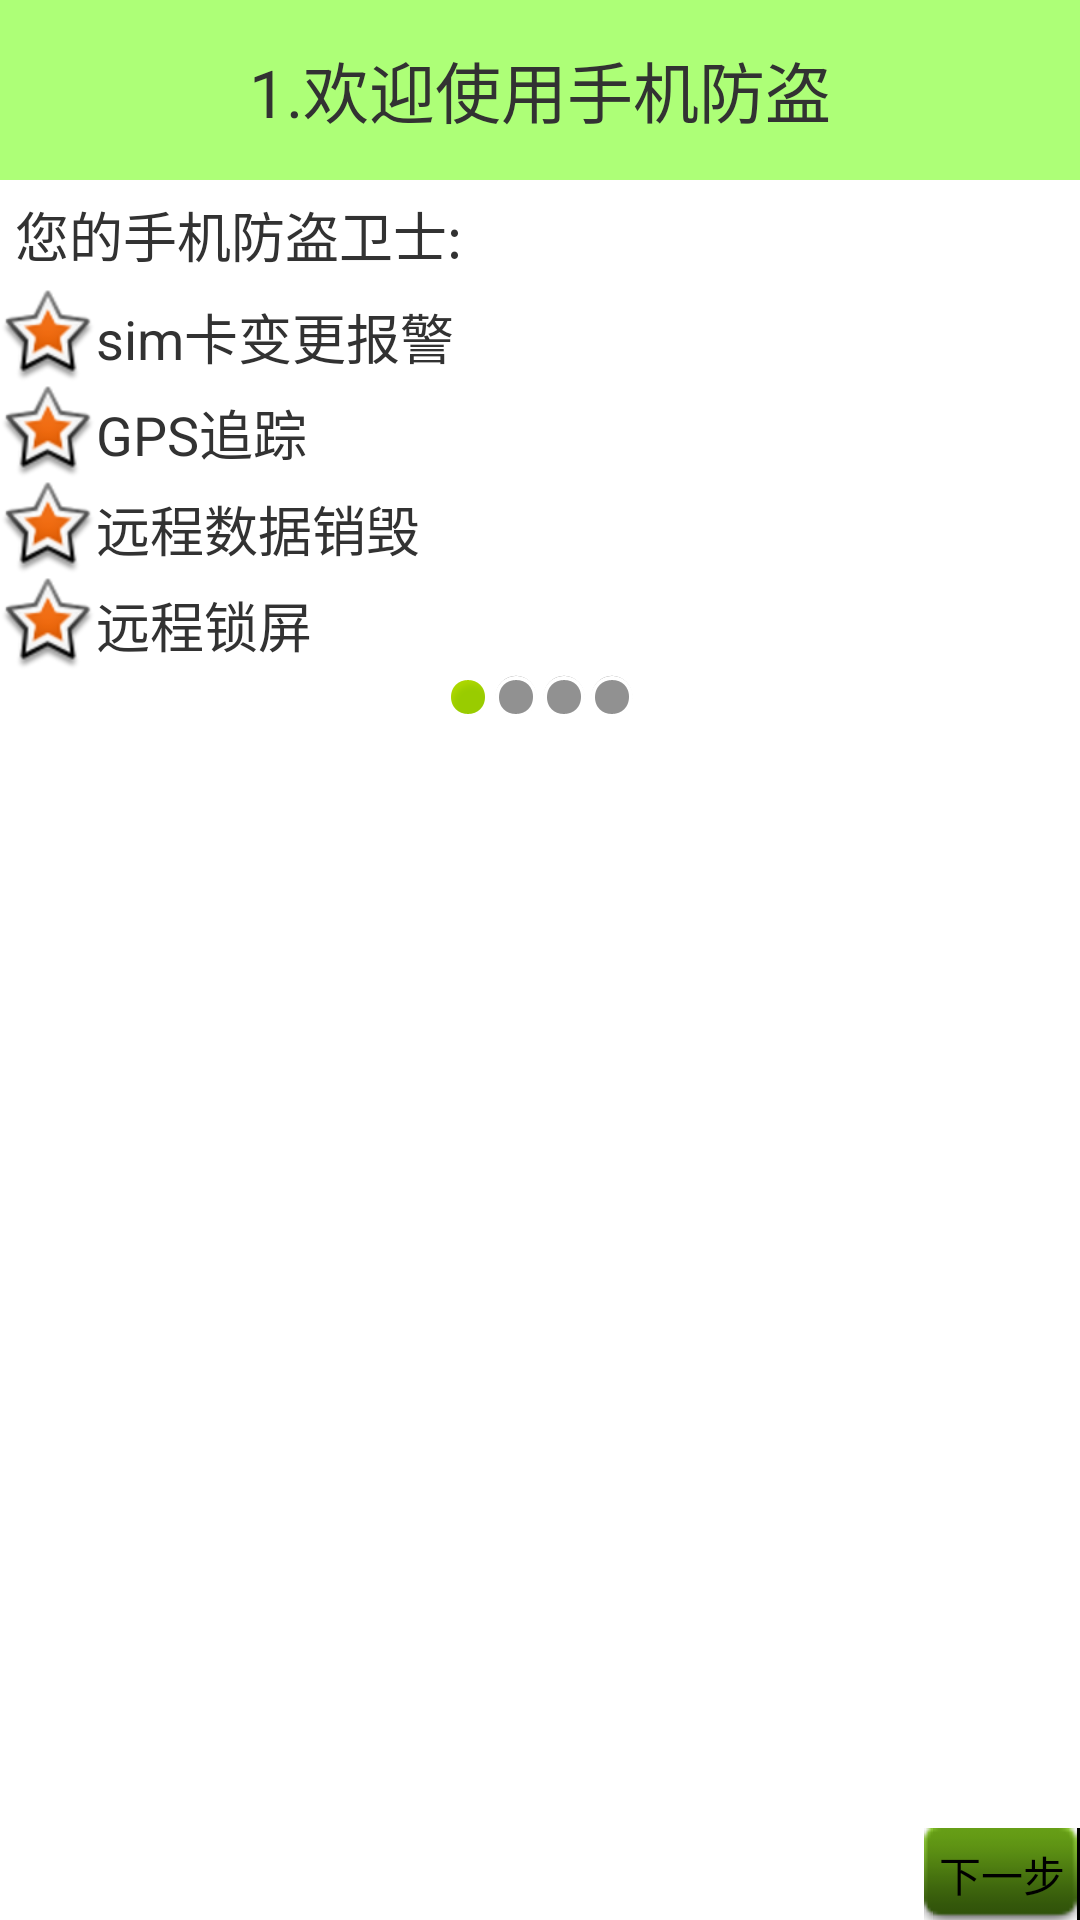

Icons on this 1080×1920 Android screen, each with the point to tap as (x,y):
presence invisible: (516,695), (564,695), (612,695)
presence online: (468,697)
